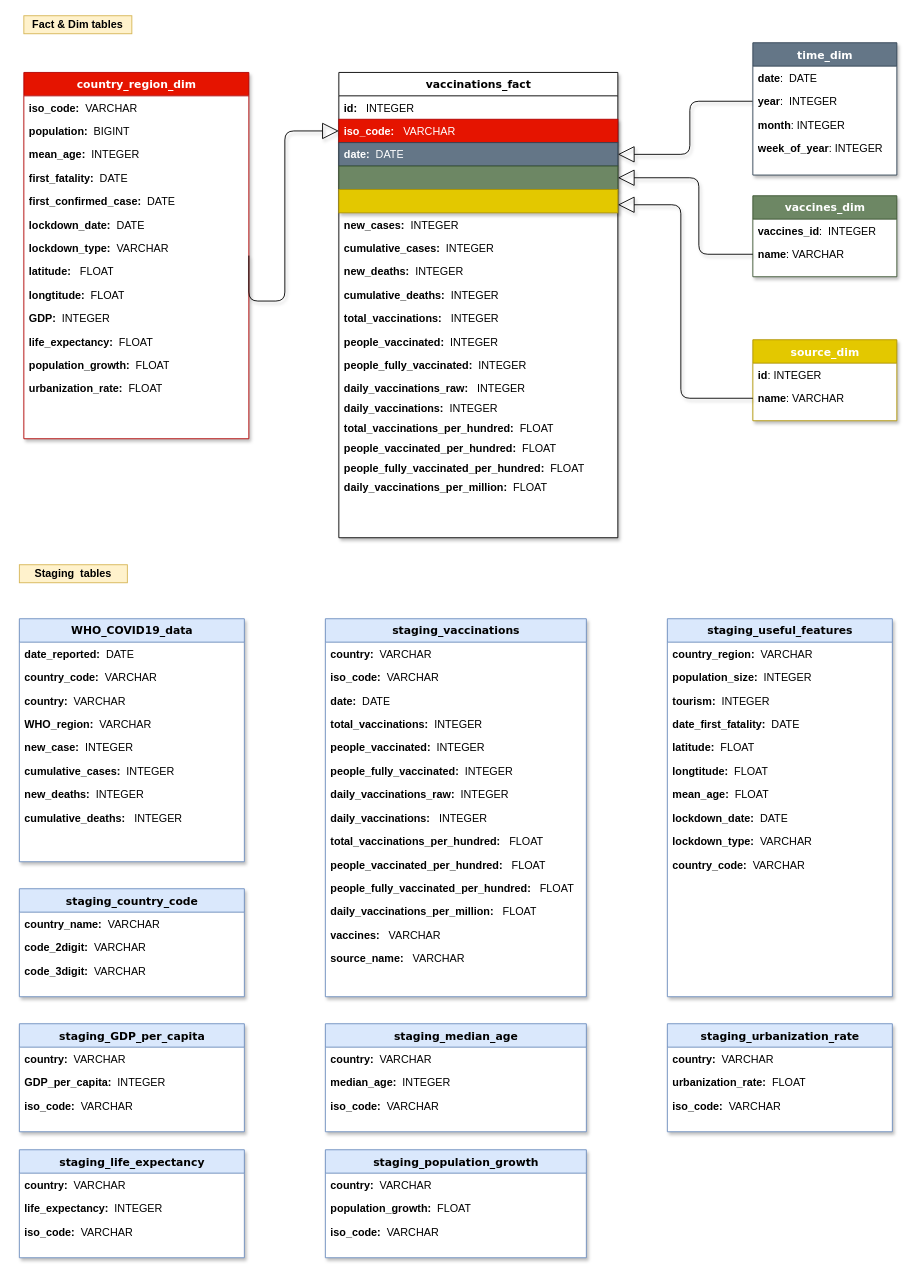
Image size: 918x1280. Some labels were removed from this diagram. Here are the shapes that lost their labels. From the top down, the centre of each, then its label:
At (x=478, y=179): "vaccines_id: INTEGER".
At (x=478, y=202): "source_id: INTEGER".
